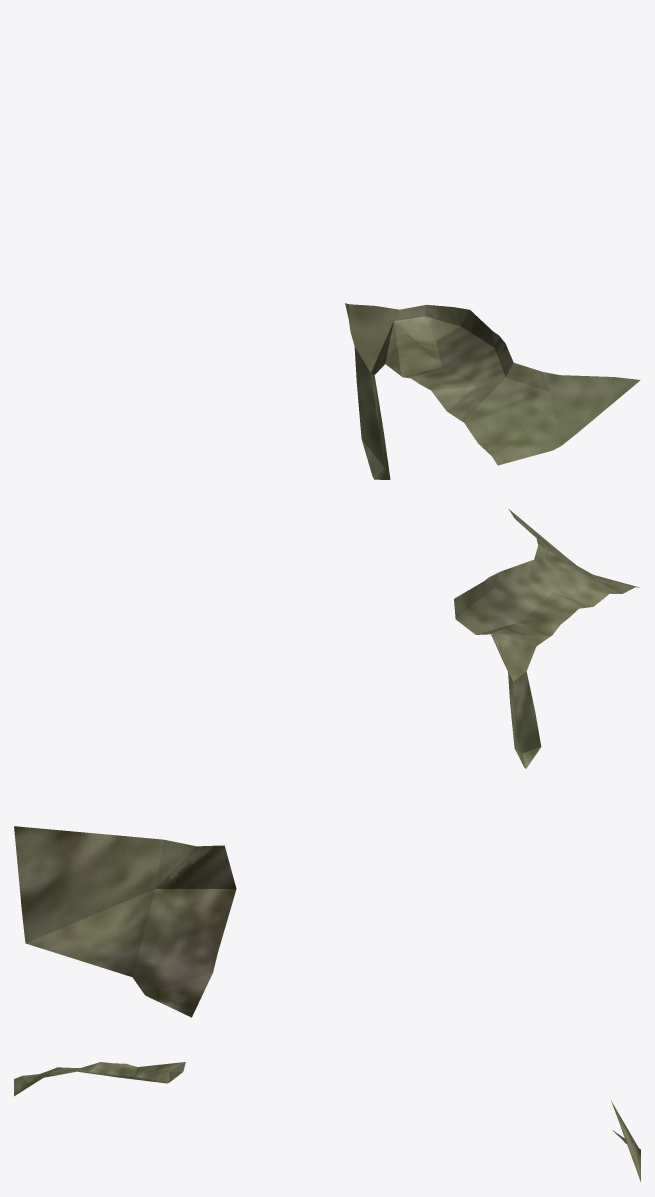
3 views of the same model, one above another, from view 1: azimuth 30°, elevation 25°; view 2: azimuth 150°, elevation 25°; view 3: azimuth 270°, elevation 25° (orthographic). The views are drawn at different scales.
Size of the model in its own units: 0.6739 by 0.5366 by 2.95.
1 material, 1 textured.
